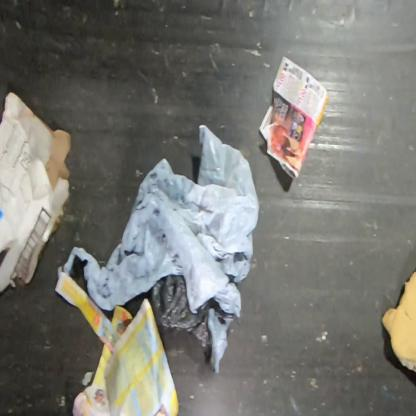cardboard: (0, 90, 72, 296), (381, 268, 415, 378)
soft_plastic: (63, 124, 260, 375)
